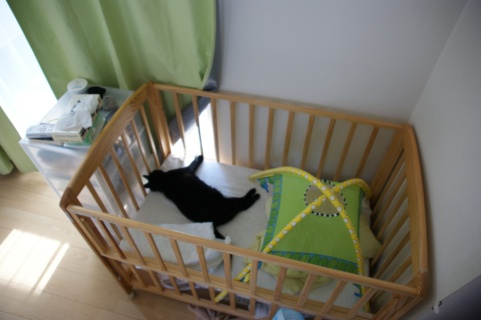Cat: (140, 152, 262, 270)
